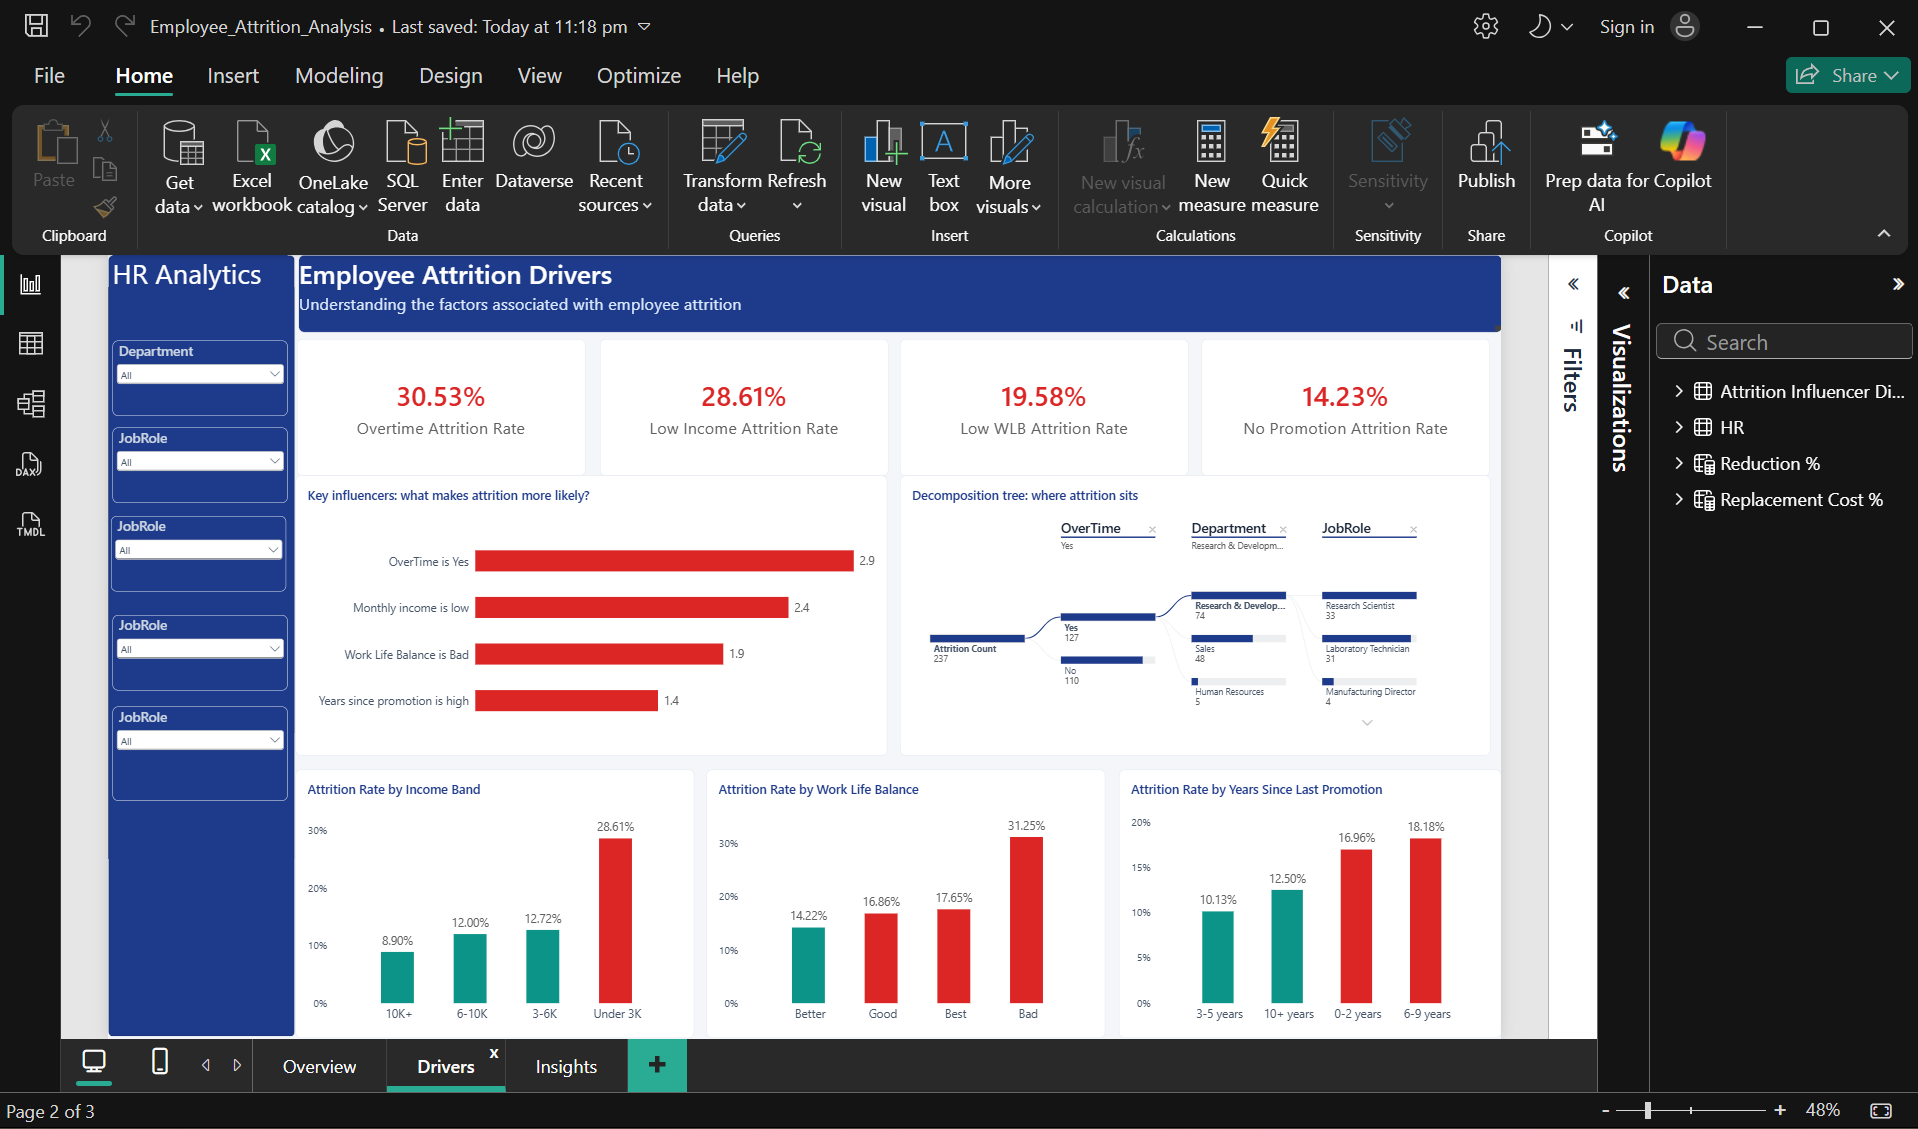

The page's visual inventory and layout, read from the dashboard file:
{"tool":"powerbi","page":{"name":"Drivers","canvas":[1920,1080],"ordinal":1},"visuals":[{"type":"textbox","title":"Employee Attrition Drivers","box":[262.1,0,1657.9,106.6],"z":0},{"type":"card","fields":{"Values":["HR.Overtime Attrition Rate"]},"box":[261.2,115.8,397.5,188.5],"z":1000},{"type":"card","fields":{"Values":["HR.Low Income Attrition Rate"]},"box":[676.8,115.8,397.5,188.5],"z":2000},{"type":"card","fields":{"Values":["HR.Low WLB Attrition Rate"]},"box":[1090.2,115.8,397.5,188.5],"z":3000},{"type":"card","fields":{"Values":["HR.No Promotion Attrition Rate"]},"box":[1505.9,115.8,397.5,188.5],"z":4000},{"type":"clusteredBarChart","title":"Key influencers: what makes attrition more likely?","fields":{"Category":["Attrition Influencer Display.Factor"],"Y":["Sum(Attrition Influencer Display.Influence)"]},"box":[258.9,304.4,815.4,386.1],"z":5000},{"type":"decompositionTreeVisual","title":"\tDecomposition tree: where attrition sits","fields":{"Analyze":["HR.Attrition Count"],"ExplainBy":["HR.OverTime","HR.Department","HR.JobRole"]},"box":[1090.2,304.4,813.1,386.1],"z":6000},{"type":"clusteredColumnChart","title":"Attrition Rate by Income Band","fields":{"Category":["HR.Income Band"],"Y":["HR.Attrition Rate"]},"box":[258.9,708.6,549.7,370.2],"z":7000},{"type":"clusteredColumnChart","title":"Attrition Rate by Work Life Balance","fields":{"Category":["HR.Work Life Balance Level"],"Y":["HR.Attrition Rate"]},"box":[824.5,708.6,549.7,370.2],"z":8000},{"type":"clusteredColumnChart","title":"Attrition Rate by Years Since Last Promotion","fields":{"Category":["HR.Promotion Tenure Band"],"Y":["HR.Attrition Rate"]},"box":[1392.3,708.6,526.9,370.2],"z":9000},{"type":"shape","box":[0,0,258.2,1077.6],"z":10000},{"type":"slicer","fields":{"Values":["HR.Department"]},"box":[7.1,118.4,241.6,104.2],"z":11000},{"type":"slicer","fields":{"Values":["HR.JobRole"]},"box":[7.1,236.8,241.6,104.2],"z":12000},{"type":"slicer","fields":{"Values":["HR.JobRole"]},"box":[4.7,360,241.6,104.2],"z":13000},{"type":"slicer","fields":{"Values":["HR.JobRole"]},"box":[7.1,495,241.6,104.2],"z":14000},{"type":"slicer","fields":{"Values":["HR.JobRole"]},"box":[7.1,622.9,241.6,130.3],"z":15000},{"type":"textbox","box":[7.1,0,241.6,106.6],"z":16000}]}

Visuals, with their boxes on the page's 1920x1080 design canvas (x1, y1, x2, y2). These are canvas units, not pixel positions in the 1918x1129 screenshot, which may show the page scaled, cropped or inside an application window:
"Employee Attrition Drivers" textbox: {"left": 262, "top": 0, "right": 1920, "bottom": 107}
card - HR.Overtime Attrition Rate: {"left": 261, "top": 116, "right": 659, "bottom": 304}
card - HR.Low Income Attrition Rate: {"left": 677, "top": 116, "right": 1074, "bottom": 304}
card - HR.Low WLB Attrition Rate: {"left": 1090, "top": 116, "right": 1488, "bottom": 304}
card - HR.No Promotion Attrition Rate: {"left": 1506, "top": 116, "right": 1903, "bottom": 304}
"Key influencers: what makes attrition more likely?" clusteredBarChart: {"left": 259, "top": 304, "right": 1074, "bottom": 690}
"	Decomposition tree: where attrition sits" decompositionTreeVisual: {"left": 1090, "top": 304, "right": 1903, "bottom": 690}
"Attrition Rate by Income Band" clusteredColumnChart: {"left": 259, "top": 709, "right": 809, "bottom": 1079}
"Attrition Rate by Work Life Balance" clusteredColumnChart: {"left": 824, "top": 709, "right": 1374, "bottom": 1079}
"Attrition Rate by Years Since Last Promotion" clusteredColumnChart: {"left": 1392, "top": 709, "right": 1919, "bottom": 1079}
shape: {"left": 0, "top": 0, "right": 258, "bottom": 1078}
slicer - HR.Department: {"left": 7, "top": 118, "right": 249, "bottom": 223}
slicer - HR.JobRole: {"left": 7, "top": 237, "right": 249, "bottom": 341}
slicer - HR.JobRole: {"left": 5, "top": 360, "right": 246, "bottom": 464}
slicer - HR.JobRole: {"left": 7, "top": 495, "right": 249, "bottom": 599}
slicer - HR.JobRole: {"left": 7, "top": 623, "right": 249, "bottom": 753}
textbox: {"left": 7, "top": 0, "right": 249, "bottom": 107}
